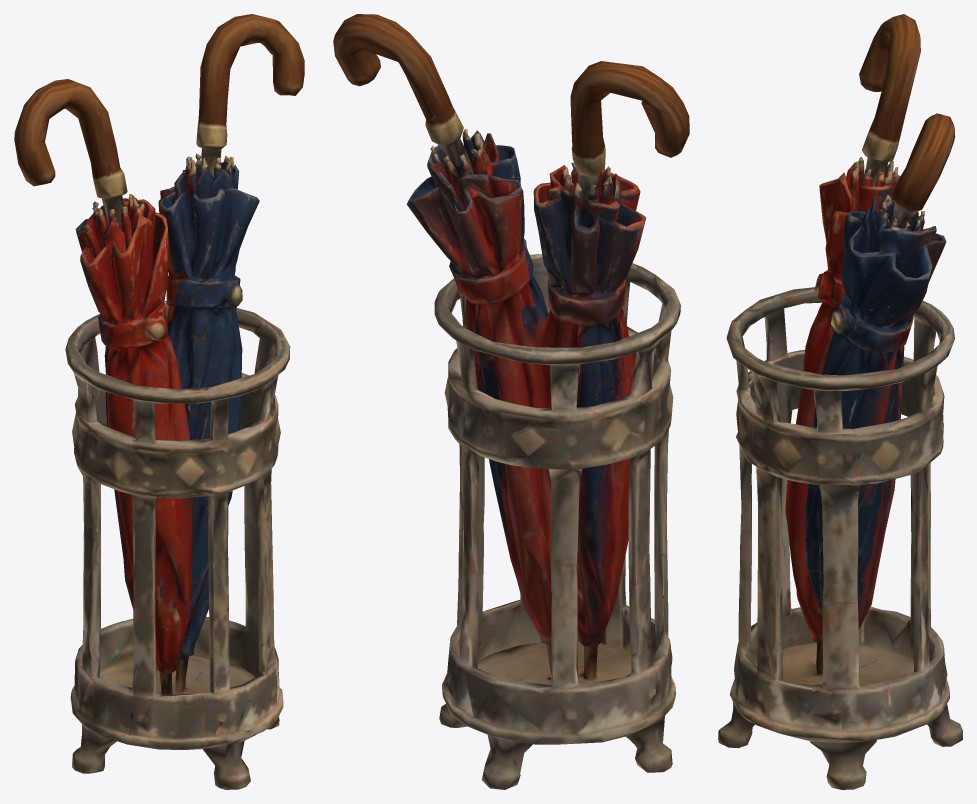
The model's file is d_umbrellastand.glb.
3 views of the same model, side by side, from view 1: azimuth 30°, elevation 25°; view 2: azimuth 150°, elevation 25°; view 3: azimuth 270°, elevation 25° (orthographic). The views are drawn at different scales.
Size of the model in its own units: 0.8952 by 1.9 by 0.6213.
1 material, 1 textured.
